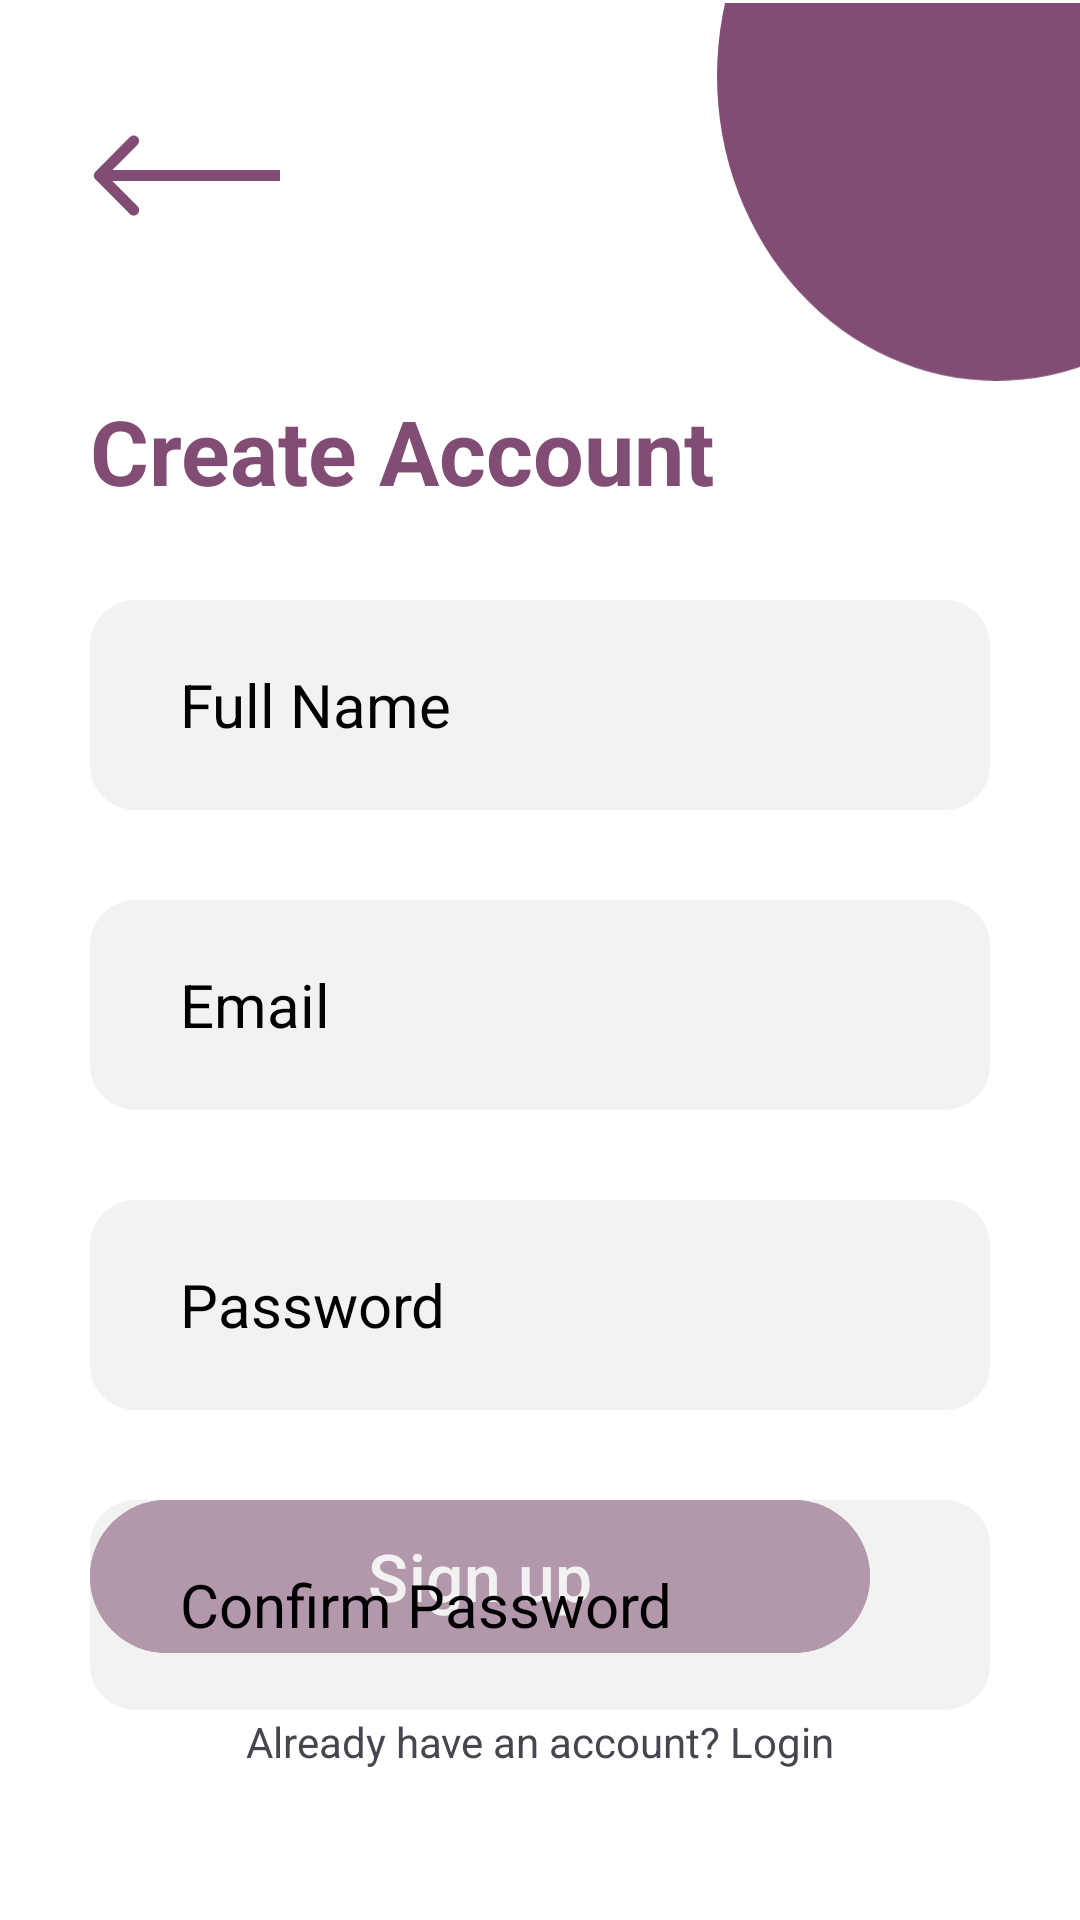

Named icons in this screenshot (1080 x 1920) and their centers, (x=x, y=y):
back arrrow: (x=186, y=175)
